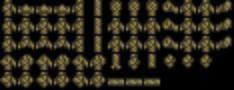ropeT: (106, 35, 125, 53), (179, 35, 197, 53), (198, 35, 216, 53), (89, 71, 107, 89), (16, 53, 34, 71), (35, 53, 53, 71), (35, 17, 53, 35), (54, 52, 70, 72), (180, 0, 198, 17), (198, 17, 216, 34), (180, 17, 198, 34), (144, 17, 162, 34), (0, 71, 17, 89), (53, 18, 71, 35), (107, 17, 124, 34), (17, 17, 34, 34), (126, 34, 142, 52), (143, 36, 161, 52), (162, 34, 178, 52), (72, 52, 88, 70), (1, 17, 17, 35), (16, 4, 36, 18), (1, 0, 17, 17), (70, 0, 86, 17), (198, 0, 214, 17), (216, 0, 233, 16), (126, 17, 142, 34), (72, 72, 89, 88), (54, 71, 70, 88), (35, 72, 52, 88), (18, 71, 34, 88), (18, 36, 35, 52), (71, 35, 86, 53), (216, 17, 232, 33), (162, 17, 178, 33), (0, 54, 16, 70), (90, 54, 106, 70), (54, 36, 70, 52), (1, 36, 17, 52), (71, 17, 86, 34), (35, 3, 53, 17), (110, 53, 124, 71), (35, 36, 53, 50), (127, 54, 142, 70), (54, 3, 71, 17), (161, 0, 178, 14), (108, 0, 122, 16), (216, 36, 232, 50), (199, 53, 213, 69), (142, 77, 162, 88), (125, 76, 143, 88), (127, 0, 140, 16), (145, 0, 158, 16), (93, 17, 104, 35), (93, 36, 104, 54), (181, 54, 195, 68), (164, 54, 178, 68), (107, 77, 125, 87), (92, 0, 103, 16), (148, 54, 158, 68)
